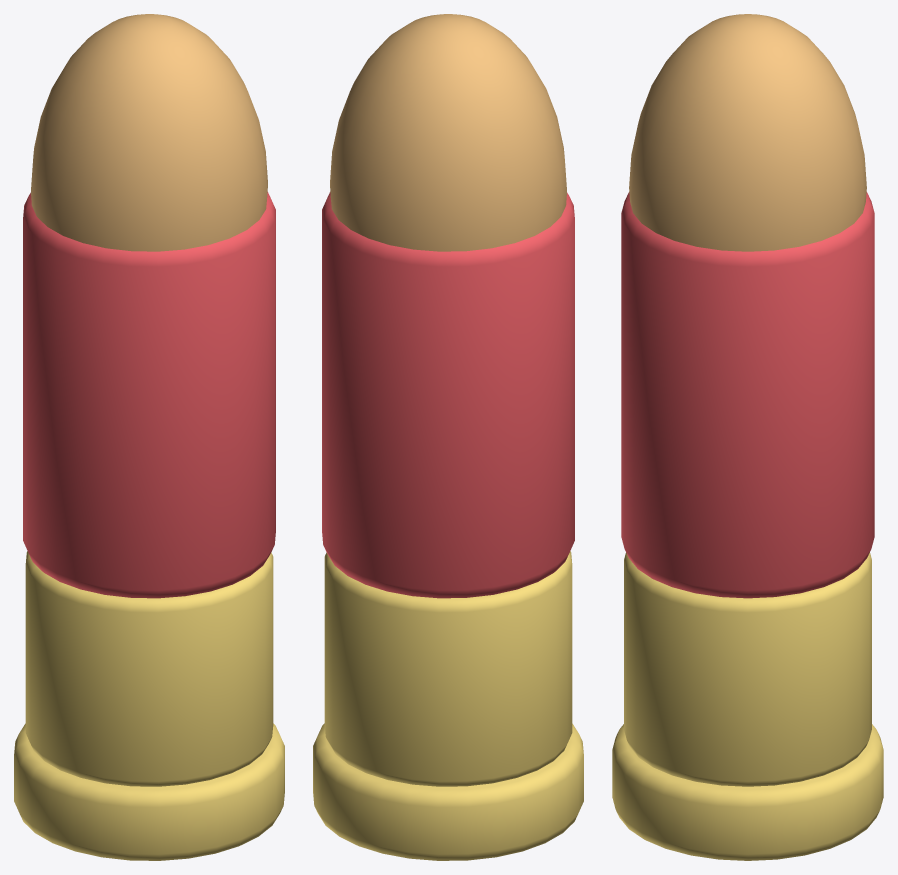
File: shell_live.glb
3 views of the same model, side by side, from view 1: azimuth 30°, elevation 25°; view 2: azimuth 150°, elevation 25°; view 3: azimuth 270°, elevation 25° (orthographic).
Visible parts, largest first — view 1: Hull, BaseCup, ProjectileTip, Rim; view 2: Hull, BaseCup, ProjectileTip, Rim; view 3: Hull, BaseCup, ProjectileTip, Rim.
Part boxes in pixels (x1,y1,x2,y2): Hull: (23,192,275,598); BaseCup: (25,551,273,786); ProjectileTip: (31,14,267,251); Rim: (14,723,284,860); Hull: (322,192,574,598); BaseCup: (324,551,572,786); ProjectileTip: (330,14,566,251); Rim: (313,723,583,860); Hull: (621,192,874,598); BaseCup: (624,552,871,786); ProjectileTip: (629,14,866,251); Rim: (612,724,883,860).
Size of the model in its own units: 0.21 by 0.6826 by 0.21.
